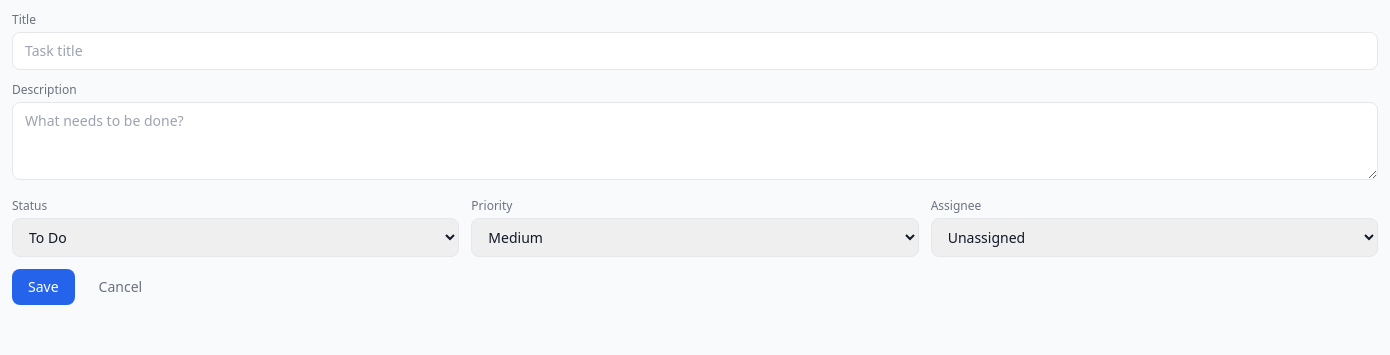
Test: TaskForm › shows a validation error when title is empty
The image size is (1390, 355).
Click the button "Save": {"x": 43, "y": 287} x1=12 y1=269 x2=75 y2=305
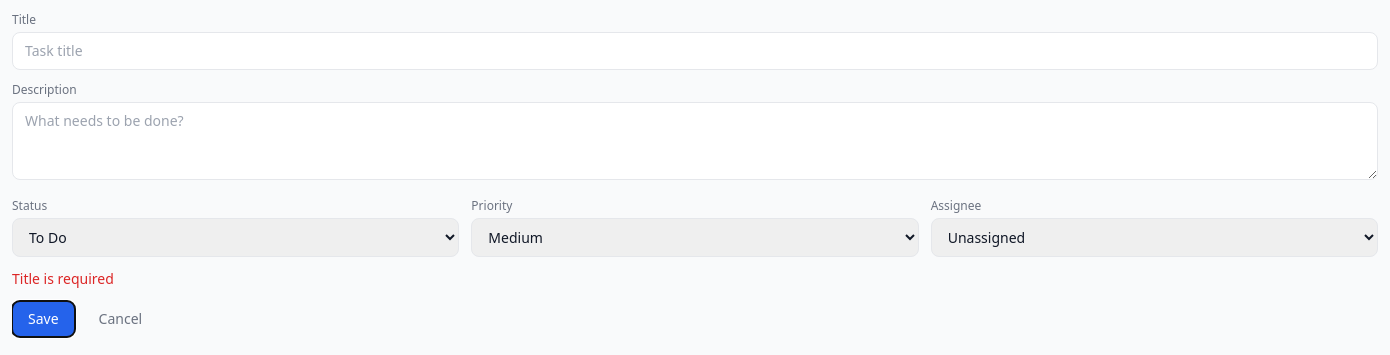
Check: the message reads "Title is required", box x1=12 y1=269 x2=114 y2=288
